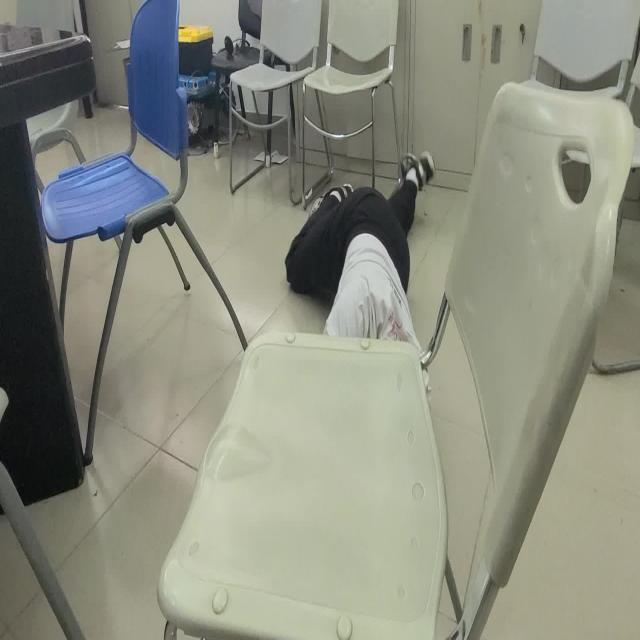Fall-Detected: (284, 142, 436, 347)
